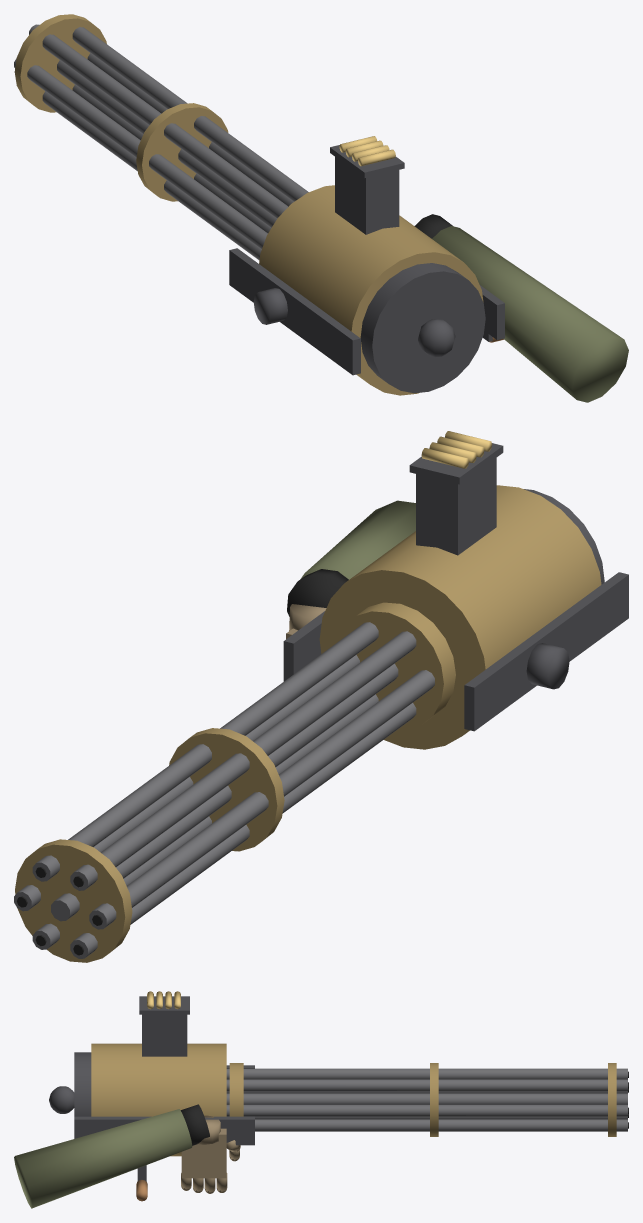
The model's file is gatling.glb.
The picture shows the model from 3 angles, top to bottom: view 1: azimuth 30°, elevation 25°; view 2: azimuth 150°, elevation 25°; view 3: azimuth 270°, elevation 25°; orthographic projection. The views are drawn at different scales.
Parts seen in each view (by area): view 1: Gatling_Body, Gatling_Barrels, Gatling_HandRight; view 2: Gatling_Barrels, Gatling_Body, Gatling_HandRight; view 3: Gatling_Barrels, Gatling_Body, Gatling_HandRight, Gatling_Crank.
Boxes of the visible parts, left/top/right/bottom form: Gatling_Body: left=229, top=136, right=504, bottom=395; Gatling_Barrels: left=14, top=14, right=308, bottom=260; Gatling_HandRight: left=414, top=214, right=628, bottom=402; Gatling_Barrels: left=14, top=602, right=455, bottom=962; Gatling_Body: left=283, top=431, right=628, bottom=749; Gatling_HandRight: left=286, top=500, right=415, bottom=638; Gatling_Barrels: left=226, top=1063, right=628, bottom=1136; Gatling_Body: left=49, top=991, right=254, bottom=1156; Gatling_HandRight: left=14, top=1104, right=240, bottom=1208; Gatling_Crank: left=136, top=1165, right=147, bottom=1201.
Size of the model in its own units: 0.3924 by 0.3409 by 1.09.
